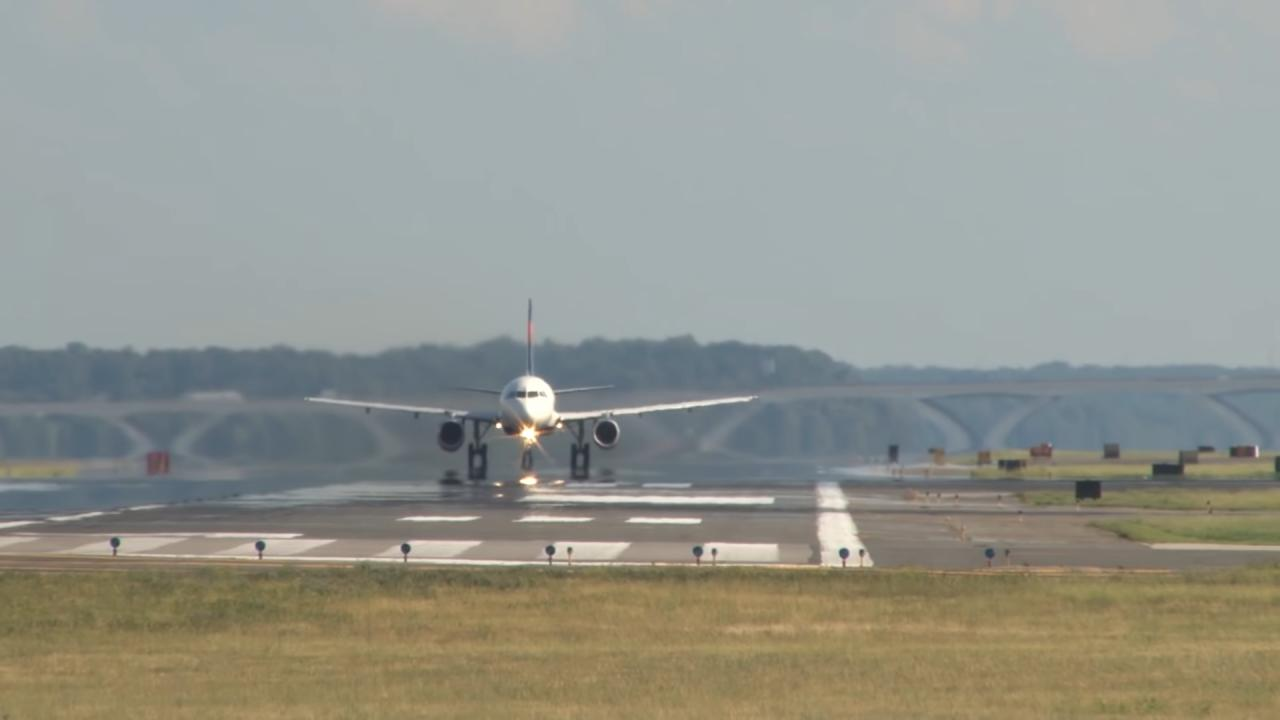Airplane: (290, 288, 772, 495)
